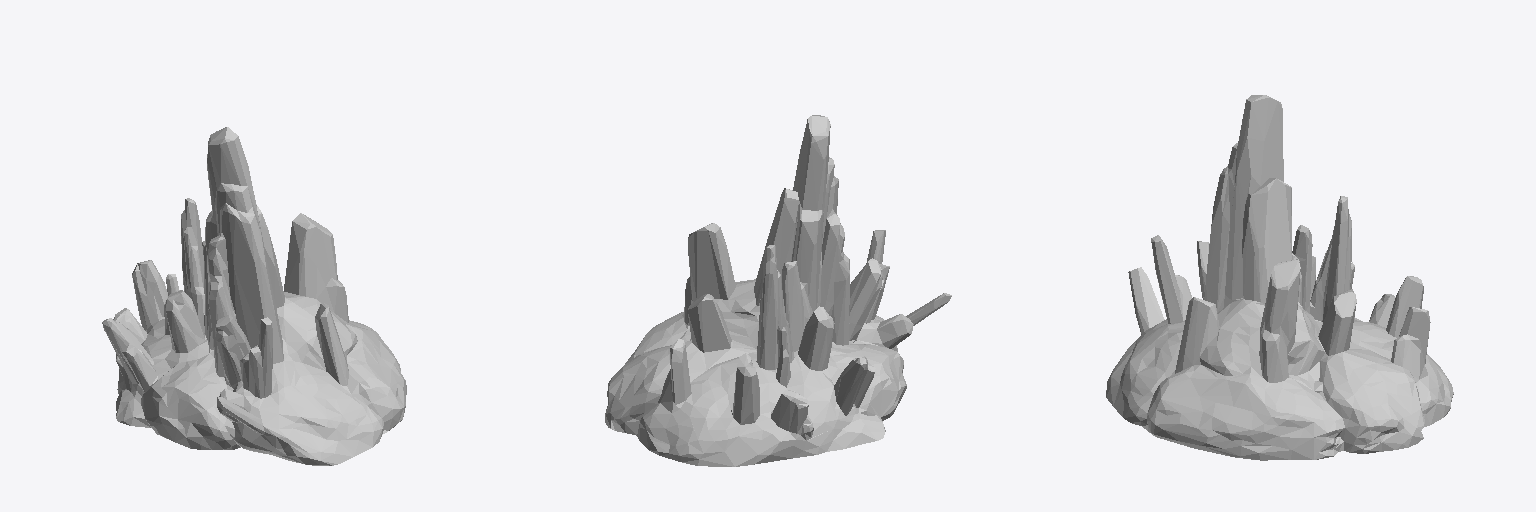
The model's file is SM_CrystalMetal_03.obj.
3 views of the same model, side by side, from view 1: azimuth 30°, elevation 25°; view 2: azimuth 150°, elevation 25°; view 3: azimuth 270°, elevation 25° (orthographic).
Visible parts, largest first — view 1: CrystalMetal_03; view 2: CrystalMetal_03; view 3: CrystalMetal_03.
Part boxes in pixels (x1,y1,x2,y2): CrystalMetal_03: (102,127,406,465); CrystalMetal_03: (605,115,951,466); CrystalMetal_03: (1106,95,1453,460).
Bounding box in the file's own units: 184 × 200 × 220.